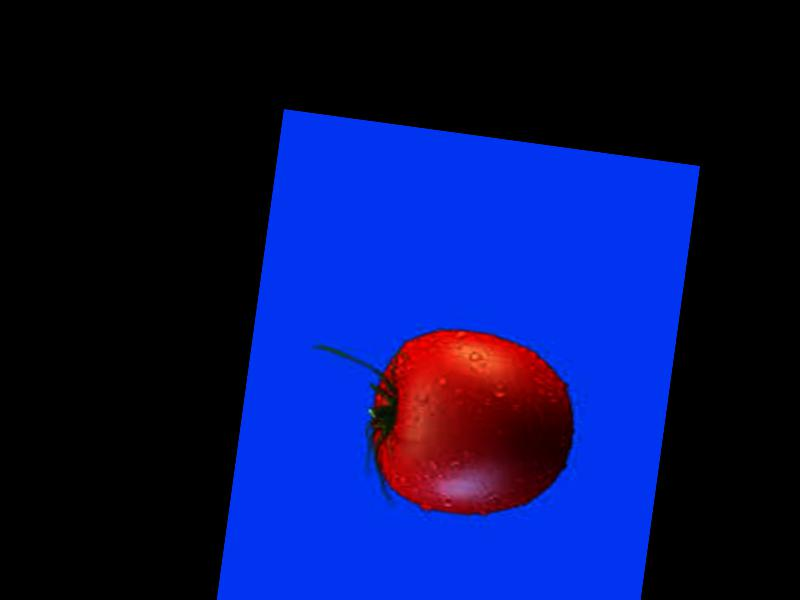Tomato: (359, 319, 584, 529)
